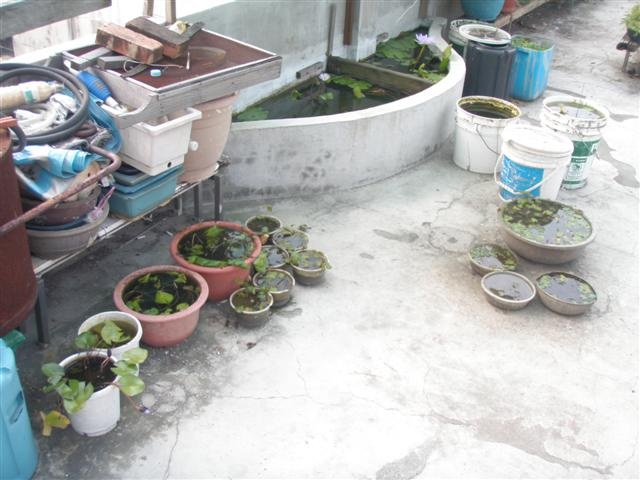bottle: (1, 81, 57, 112)
bowl: (112, 264, 210, 347), (169, 219, 261, 301), (498, 196, 598, 265), (174, 89, 242, 179), (55, 350, 123, 437), (23, 202, 112, 259), (535, 270, 598, 317), (480, 270, 537, 311), (467, 240, 520, 277), (252, 268, 295, 309), (229, 285, 274, 324), (291, 248, 327, 287)
box: (115, 107, 202, 175)
bucket: (541, 94, 607, 191), (497, 123, 575, 202), (453, 95, 522, 174), (509, 33, 555, 102), (461, 41, 517, 97)
plate: (458, 23, 512, 46)
